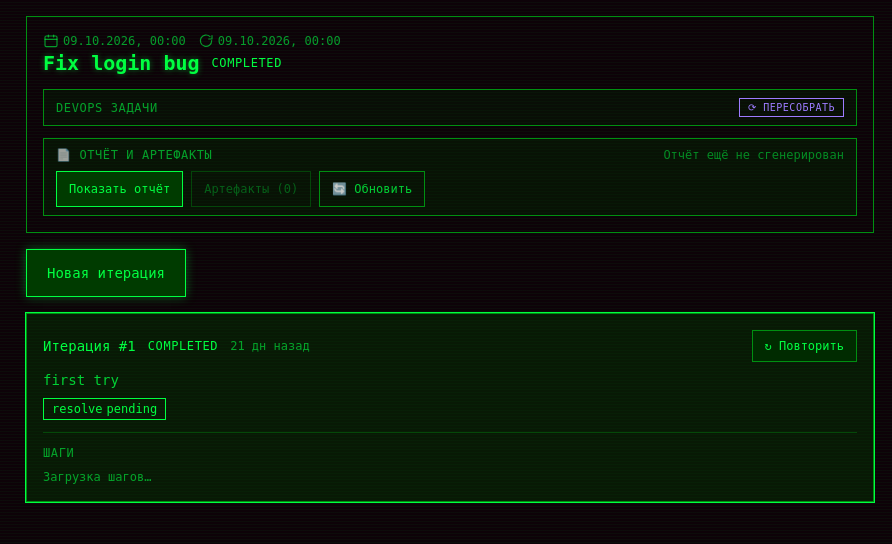
Test: TaskDetail — секция «Отчёт» › ошибка POST /report → красный текст, генерация снята
This screenshot has width=892, height=544.
Expected: the heading "Fix login bug" is shown, [43,49,200,77]
Step 1. Click the button with test id "refresh-report" → {"x": 372, "y": 189}, box [319,171,425,207]
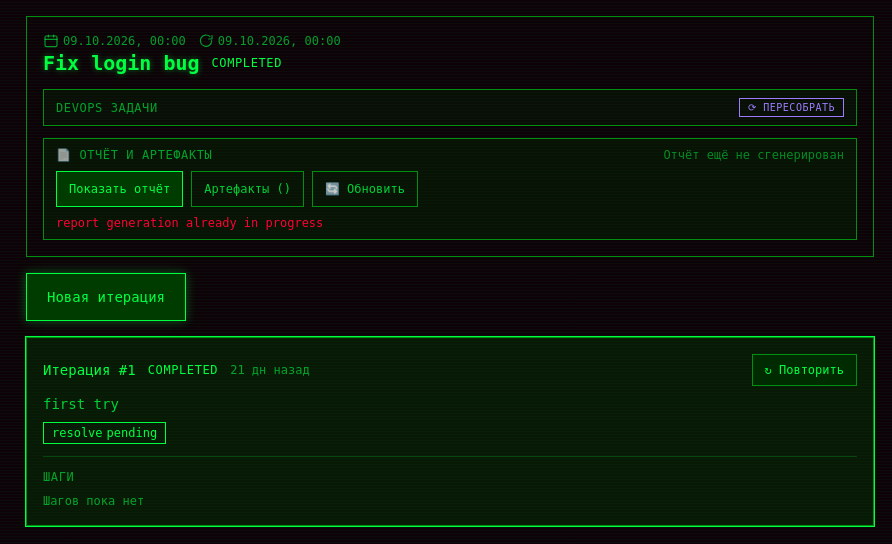
Result: the message with test id "report-error" reads "report generation already in progress" at [56,216,323,230]
